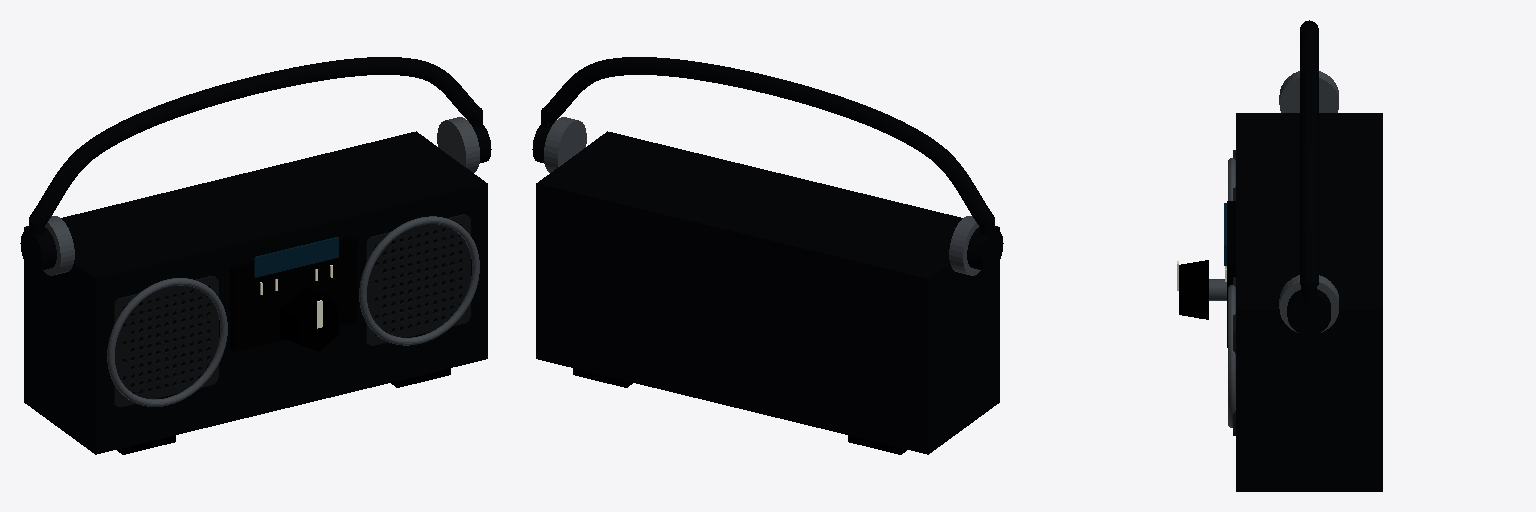
URDF robot description (boombox_speaker):
<robot name="boombox_speaker">
  <link name="case">
    <visual name="case_shell">
      <origin xyz="0 0 0.16" rpy="0 0 0" />
      <geometry>
        <box size="0.7 0.22 0.3" />
        </geometry>
      <material name="charcoal_molded_plastic">
        <color rgba="0.03 0.035 0.045 1" />
        </material>
      </visual>
    <visual name="control_panel">
      <origin xyz="0 -0.117 0.205" rpy="0 0 0" />
      <geometry>
        <box size="0.22 0.014 0.14" />
        </geometry>
      <material name="dark_control_panel">
        <color rgba="0.015 0.017 0.02 1" />
        </material>
      </visual>
    <visual name="tuning_window">
      <origin xyz="0 -0.126 0.272" rpy="0 0 0" />
      <geometry>
        <box size="0.15 0.004 0.034" />
        </geometry>
      <material name="blue_tinted_display">
        <color rgba="0.05 0.16 0.22 1" />
        </material>
      </visual>
    <visual name="speaker_grille_0">
      <origin xyz="-0.225 -0.112 0.175" rpy="1.5708 0 0" />
      <geometry>
        <mesh filename="assets/meshes/speaker_grille.obj" />
        </geometry>
      <material name="graphite_grille">
        <color rgba="0.1 0.105 0.11 1" />
        </material>
      </visual>
    <visual name="speaker_grille_1">
      <origin xyz="0.225 -0.112 0.175" rpy="1.5708 0 0" />
      <geometry>
        <mesh filename="assets/meshes/speaker_grille.obj" />
        </geometry>
      <material name="graphite_grille">
        <color rgba="0.1 0.105 0.11 1" />
        </material>
      </visual>
    <visual name="speaker_ring_0">
      <origin xyz="-0.225 -0.116 0.175" rpy="1.5708 0 0" />
      <geometry>
        <mesh filename="assets/meshes/speaker_ring.obj" />
        </geometry>
      <material name="gunmetal_trim">
        <color rgba="0.28 0.3 0.32 1" />
        </material>
      </visual>
    <visual name="speaker_ring_1">
      <origin xyz="0.225 -0.116 0.175" rpy="1.5708 0 0" />
      <geometry>
        <mesh filename="assets/meshes/speaker_ring.obj" />
        </geometry>
      <material name="gunmetal_trim">
        <color rgba="0.28 0.3 0.32 1" />
        </material>
      </visual>
    <visual name="pivot_boss_0">
      <origin xyz="-0.362 0 0.325" rpy="0 1.5708 0" />
      <geometry>
        <cylinder radius="0.045" length="0.025" />
        </geometry>
      <material name="gunmetal_trim">
        <color rgba="0.28 0.3 0.32 1" />
        </material>
      </visual>
    <visual name="pivot_boss_1">
      <origin xyz="0.362 0 0.325" rpy="0 1.5708 0" />
      <geometry>
        <cylinder radius="0.045" length="0.025" />
        </geometry>
      <material name="gunmetal_trim">
        <color rgba="0.28 0.3 0.32 1" />
        </material>
      </visual>
    <visual name="foot_0">
      <origin xyz="-0.245 -0.075 0" rpy="0 0 0" />
      <geometry>
        <box size="0.095 0.04 0.02" />
        </geometry>
      <material name="black_rubber">
        <color rgba="0.005 0.005 0.006 1" />
        </material>
      </visual>
    <visual name="foot_1">
      <origin xyz="-0.245 0.075 0" rpy="0 0 0" />
      <geometry>
        <box size="0.095 0.04 0.02" />
        </geometry>
      <material name="black_rubber">
        <color rgba="0.005 0.005 0.006 1" />
        </material>
      </visual>
    <visual name="foot_2">
      <origin xyz="0.245 -0.075 0" rpy="0 0 0" />
      <geometry>
        <box size="0.095 0.04 0.02" />
        </geometry>
      <material name="black_rubber">
        <color rgba="0.005 0.005 0.006 1" />
        </material>
      </visual>
    <visual name="foot_3">
      <origin xyz="0.245 0.075 0" rpy="0 0 0" />
      <geometry>
        <box size="0.095 0.04 0.02" />
        </geometry>
      <material name="black_rubber">
        <color rgba="0.005 0.005 0.006 1" />
        </material>
      </visual>
    <visual name="scale_tick_0">
      <origin xyz="-0.063 -0.1255 0.233" rpy="0 0 0" />
      <geometry>
        <box size="0.004 0.003 0.02" />
        </geometry>
      <material name="white_print">
        <color rgba="0.88 0.88 0.8 1" />
        </material>
      </visual>
    <visual name="scale_tick_1">
      <origin xyz="-0.036 -0.1255 0.233" rpy="0 0 0" />
      <geometry>
        <box size="0.004 0.003 0.02" />
        </geometry>
      <material name="white_print">
        <color rgba="0.88 0.88 0.8 1" />
        </material>
      </visual>
    <visual name="scale_tick_2">
      <origin xyz="0.036 -0.1255 0.233" rpy="0 0 0" />
      <geometry>
        <box size="0.004 0.003 0.02" />
        </geometry>
      <material name="white_print">
        <color rgba="0.88 0.88 0.8 1" />
        </material>
      </visual>
    <visual name="scale_tick_3">
      <origin xyz="0.063 -0.1255 0.233" rpy="0 0 0" />
      <geometry>
        <box size="0.004 0.003 0.02" />
        </geometry>
      <material name="white_print">
        <color rgba="0.88 0.88 0.8 1" />
        </material>
      </visual>
    <collision name="case_shell">
      <origin xyz="0 0 0.16" rpy="0 0 0" />
      <geometry>
        <box size="0.7 0.22 0.3" />
        </geometry>
      </collision>
    <collision name="control_panel">
      <origin xyz="0 -0.117 0.205" rpy="0 0 0" />
      <geometry>
        <box size="0.22 0.014 0.14" />
        </geometry>
      </collision>
    <collision name="tuning_window">
      <origin xyz="0 -0.126 0.272" rpy="0 0 0" />
      <geometry>
        <box size="0.15 0.004 0.034" />
        </geometry>
      </collision>
    <collision name="speaker_grille_0">
      <origin xyz="-0.225 -0.112 0.175" rpy="1.5708 0 0" />
      <geometry>
        <mesh filename="assets/meshes/speaker_grille.obj" />
        </geometry>
      </collision>
    <collision name="speaker_grille_1">
      <origin xyz="0.225 -0.112 0.175" rpy="1.5708 0 0" />
      <geometry>
        <mesh filename="assets/meshes/speaker_grille.obj" />
        </geometry>
      </collision>
    <collision name="speaker_ring_0">
      <origin xyz="-0.225 -0.116 0.175" rpy="1.5708 0 0" />
      <geometry>
        <mesh filename="assets/meshes/speaker_ring.obj" />
        </geometry>
      </collision>
    <collision name="speaker_ring_1">
      <origin xyz="0.225 -0.116 0.175" rpy="1.5708 0 0" />
      <geometry>
        <mesh filename="assets/meshes/speaker_ring.obj" />
        </geometry>
      </collision>
    <collision name="pivot_boss_0">
      <origin xyz="-0.362 0 0.325" rpy="0 1.5708 0" />
      <geometry>
        <cylinder radius="0.045" length="0.025" />
        </geometry>
      </collision>
    <collision name="pivot_boss_1">
      <origin xyz="0.362 0 0.325" rpy="0 1.5708 0" />
      <geometry>
        <cylinder radius="0.045" length="0.025" />
        </geometry>
      </collision>
    <collision name="foot_0">
      <origin xyz="-0.245 -0.075 0" rpy="0 0 0" />
      <geometry>
        <box size="0.095 0.04 0.02" />
        </geometry>
      </collision>
    <collision name="foot_1">
      <origin xyz="-0.245 0.075 0" rpy="0 0 0" />
      <geometry>
        <box size="0.095 0.04 0.02" />
        </geometry>
      </collision>
    <collision name="foot_2">
      <origin xyz="0.245 -0.075 0" rpy="0 0 0" />
      <geometry>
        <box size="0.095 0.04 0.02" />
        </geometry>
      </collision>
    <collision name="foot_3">
      <origin xyz="0.245 0.075 0" rpy="0 0 0" />
      <geometry>
        <box size="0.095 0.04 0.02" />
        </geometry>
      </collision>
    <collision name="scale_tick_0">
      <origin xyz="-0.063 -0.1255 0.233" rpy="0 0 0" />
      <geometry>
        <box size="0.004 0.003 0.02" />
        </geometry>
      </collision>
    <collision name="scale_tick_1">
      <origin xyz="-0.036 -0.1255 0.233" rpy="0 0 0" />
      <geometry>
        <box size="0.004 0.003 0.02" />
        </geometry>
      </collision>
    <collision name="scale_tick_2">
      <origin xyz="0.036 -0.1255 0.233" rpy="0 0 0" />
      <geometry>
        <box size="0.004 0.003 0.02" />
        </geometry>
      </collision>
    <collision name="scale_tick_3">
      <origin xyz="0.063 -0.1255 0.233" rpy="0 0 0" />
      <geometry>
        <box size="0.004 0.003 0.02" />
        </geometry>
      </collision>
    </link>
  <link name="carry_handle">
    <visual name="handle_arc">
      <geometry>
        <mesh filename="assets/meshes/carry_handle_arc.obj" />
        </geometry>
      <material name="charcoal_molded_plastic">
        <color rgba="0.03 0.035 0.045 1" />
        </material>
      </visual>
    <visual name="pivot_lug_0">
      <origin xyz="-0.388 0 0" rpy="0 1.5708 0" />
      <geometry>
        <cylinder radius="0.033" length="0.027" />
        </geometry>
      <material name="charcoal_molded_plastic">
        <color rgba="0.03 0.035 0.045 1" />
        </material>
      </visual>
    <visual name="pivot_lug_1">
      <origin xyz="0.388 0 0" rpy="0 1.5708 0" />
      <geometry>
        <cylinder radius="0.033" length="0.027" />
        </geometry>
      <material name="charcoal_molded_plastic">
        <color rgba="0.03 0.035 0.045 1" />
        </material>
      </visual>
    <visual name="handle_neck_0">
      <origin xyz="-0.392 0 0.036" rpy="0 0 0" />
      <geometry>
        <cylinder radius="0.012" length="0.034" />
        </geometry>
      <material name="charcoal_molded_plastic">
        <color rgba="0.03 0.035 0.045 1" />
        </material>
      </visual>
    <visual name="handle_neck_1">
      <origin xyz="0.392 0 0.036" rpy="0 0 0" />
      <geometry>
        <cylinder radius="0.012" length="0.034" />
        </geometry>
      <material name="charcoal_molded_plastic">
        <color rgba="0.03 0.035 0.045 1" />
        </material>
      </visual>
    <collision name="handle_arc">
      <geometry>
        <mesh filename="assets/meshes/carry_handle_arc.obj" />
        </geometry>
      </collision>
    <collision name="pivot_lug_0">
      <origin xyz="-0.388 0 0" rpy="0 1.5708 0" />
      <geometry>
        <cylinder radius="0.033" length="0.027" />
        </geometry>
      </collision>
    <collision name="pivot_lug_1">
      <origin xyz="0.388 0 0" rpy="0 1.5708 0" />
      <geometry>
        <cylinder radius="0.033" length="0.027" />
        </geometry>
      </collision>
    <collision name="handle_neck_0">
      <origin xyz="-0.392 0 0.036" rpy="0 0 0" />
      <geometry>
        <cylinder radius="0.012" length="0.034" />
        </geometry>
      </collision>
    <collision name="handle_neck_1">
      <origin xyz="0.392 0 0.036" rpy="0 0 0" />
      <geometry>
        <cylinder radius="0.012" length="0.034" />
        </geometry>
      </collision>
    </link>
  <link name="tuning_knob">
    <visual name="shaft">
      <origin xyz="0 0 0.015" rpy="0 0 0" />
      <geometry>
        <cylinder radius="0.016" length="0.03" />
        </geometry>
      <material name="gunmetal_trim">
        <color rgba="0.28 0.3 0.32 1" />
        </material>
      </visual>
    <visual name="knob_body">
      <origin xyz="0 0 0.026" rpy="0 0 0" />
      <geometry>
        <mesh filename="assets/meshes/tuning_knob_body.obj" />
        </geometry>
      <material name="black_rubber">
        <color rgba="0.005 0.005 0.006 1" />
        </material>
      </visual>
    <visual name="pointer_mark">
      <origin xyz="0 0.023 0.0725" rpy="0 0 0" />
      <geometry>
        <box size="0.009 0.045 0.003" />
        </geometry>
      <material name="white_print">
        <color rgba="0.88 0.88 0.8 1" />
        </material>
      </visual>
    <collision name="shaft">
      <origin xyz="0 0 0.015" rpy="0 0 0" />
      <geometry>
        <cylinder radius="0.016" length="0.03" />
        </geometry>
      </collision>
    <collision name="knob_body">
      <origin xyz="0 0 0.026" rpy="0 0 0" />
      <geometry>
        <mesh filename="assets/meshes/tuning_knob_body.obj" />
        </geometry>
      </collision>
    <collision name="pointer_mark">
      <origin xyz="0 0.023 0.0725" rpy="0 0 0" />
      <geometry>
        <box size="0.009 0.045 0.003" />
        </geometry>
      </collision>
    </link>
  <joint name="case_to_handle" type="revolute">
    <origin xyz="0 0 0.325" rpy="0 0 0" />
    <parent link="case" />
    <child link="carry_handle" />
    <axis xyz="1 0 0" />
    <limit effort="8" velocity="2" lower="-1.25" upper="1.25" />
    </joint>
  <joint name="panel_to_tuning_knob" type="continuous">
    <origin xyz="0 -0.124 0.18" rpy="1.5708 0 0" />
    <parent link="case" />
    <child link="tuning_knob" />
    <axis xyz="0 0 1" />
    <limit effort="1.5" velocity="7" />
    </joint>
  </robot>

--- Render facts (derived) ---
The picture shows the robot from 3 angles, left to right: view 1: azimuth 30°, elevation 25°; view 2: azimuth 150°, elevation 25°; view 3: azimuth 270°, elevation 25°; orthographic projection.
Robot: boombox_speaker — 3 links, 2 joints (1 revolute, 1 continuous); root link case; default pose: all joints at 0.
Visible links, largest first — view 1: case, carry_handle, tuning_knob; view 2: case, carry_handle; view 3: case, carry_handle, tuning_knob.
Boxes of the visible links, <box> form: case: <box>24,117,487,454</box>; carry_handle: <box>20,57,491,271</box>; tuning_knob: <box>280,288,338,351</box>; case: <box>536,117,999,454</box>; carry_handle: <box>532,57,1003,271</box>; case: <box>1224,71,1382,491</box>; carry_handle: <box>1287,20,1330,334</box>; tuning_knob: <box>1177,260,1226,319</box>.
Size in the robot's own frame: 0.808 by 0.308 by 0.539 metres.
Meshes: 4 distinct files referenced, 6 mesh visuals loaded (4 OBJ).
